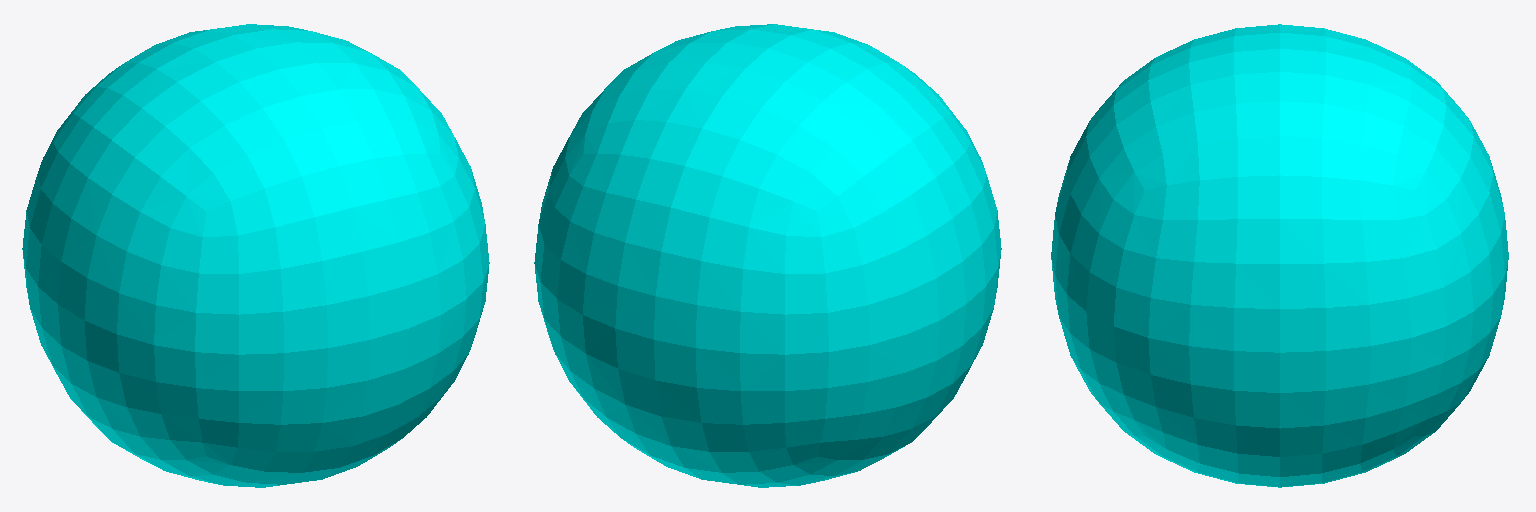
Rendered from Planeta.obj.
3 renders of one model, left to right at view 1: azimuth 30°, elevation 25°; view 2: azimuth 150°, elevation 25°; view 3: azimuth 270°, elevation 25°, orthographic.
Parts seen in each view (by area): view 1: pCube2; view 2: pCube2; view 3: pCube2.
Part boxes in pixels (x1,y1,x2,y2): pCube2: (22, 24, 489, 487); pCube2: (534, 24, 1001, 487); pCube2: (1051, 24, 1508, 487).
Bounding box in the file's own units: 11.85 × 11.85 × 11.85.